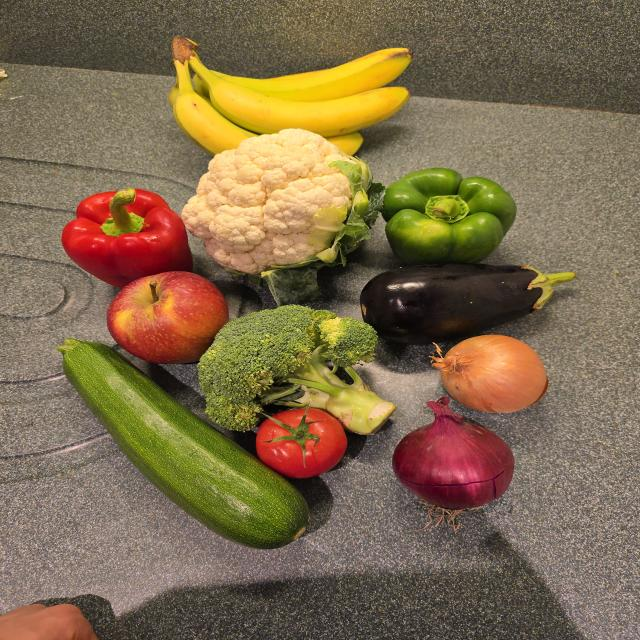Apple: (107, 271, 229, 363)
Banana: (169, 36, 410, 155)
Bell Pepper: (380, 169, 515, 265), (62, 190, 192, 289)
Broccoli: (198, 305, 398, 436)
Cauliflower: (181, 128, 378, 275)
Courgette: (57, 338, 309, 549)
Eggplant: (360, 263, 575, 344)
Onion: (392, 397, 514, 510), (431, 335, 548, 413)
Tomato: (256, 408, 347, 478)
